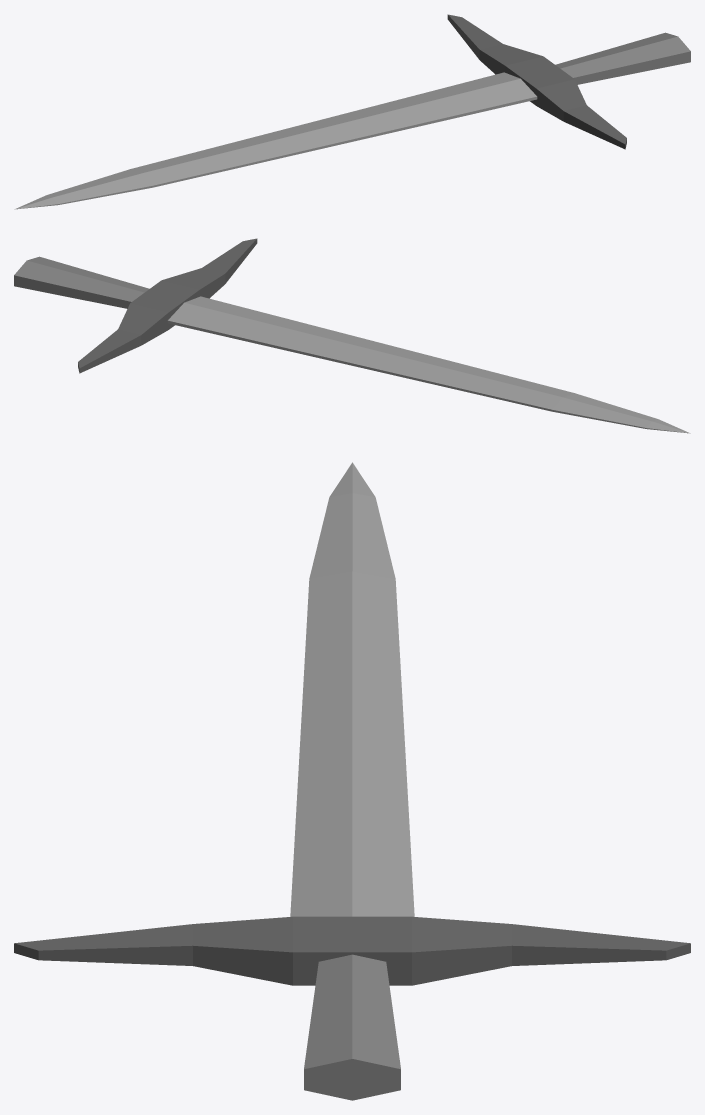
The model's file is Sword.fbx.
3 renders of one model, top to bottom at view 1: azimuth 30°, elevation 25°; view 2: azimuth 150°, elevation 25°; view 3: azimuth 270°, elevation 25°, orthographic. The views are drawn at different scales.
Parts seen in each view (by area): view 1: pCylinder5; view 2: pCylinder5; view 3: pCylinder5.
Boxes of the visible parts, <box> form: pCylinder5: <box>14,14,690,209</box>; pCylinder5: <box>14,238,690,433</box>; pCylinder5: <box>14,462,690,1100</box>.
Size of the model in its own units: 143 by 4.53 by 66.36.
